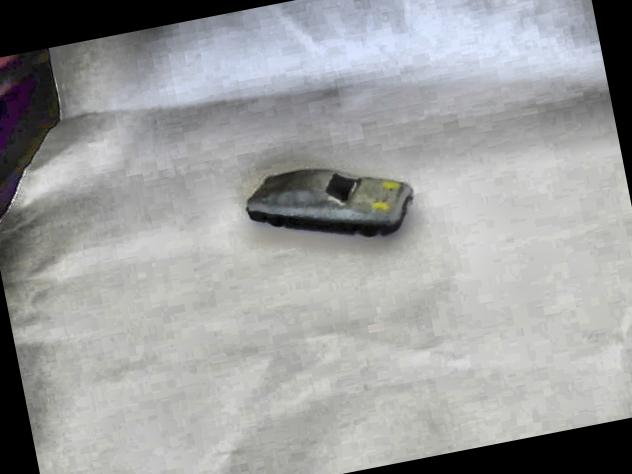normal_car: (236, 142, 424, 263)
